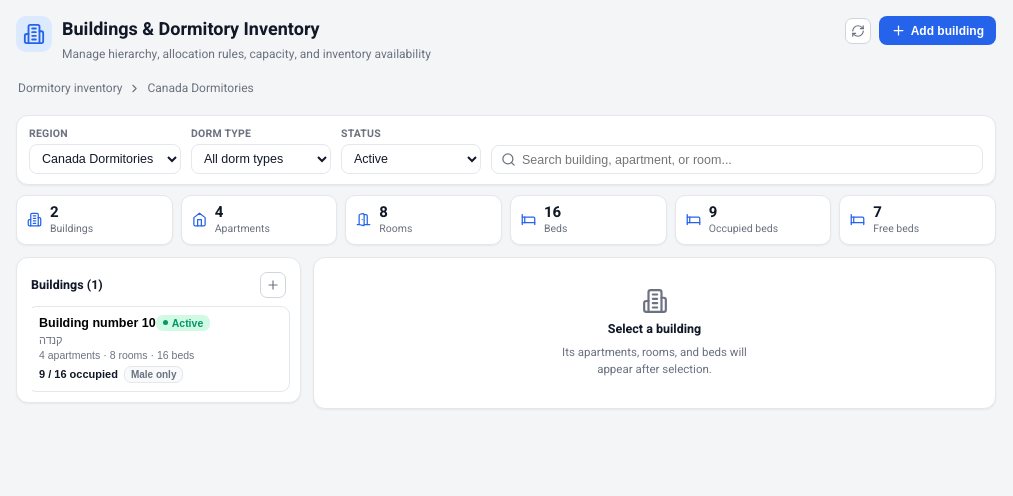
Scenario: BuildingsPage loading and region scope › switching region queries that region, resets the dorm type filter and the selection
Click the button "Building number 10". click: (158, 348)
box: 27,306 -> 290,392
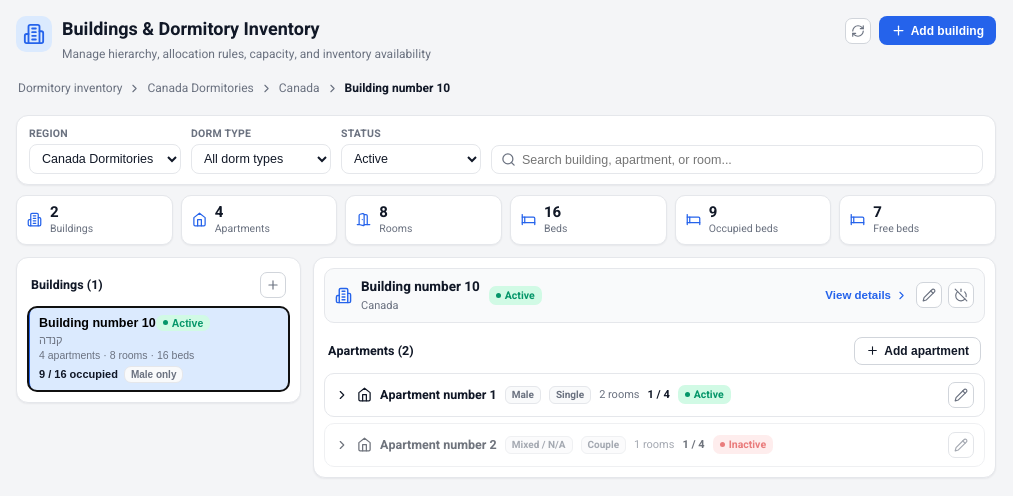
Now the text "Apartment number 1" is shown, box 380,386 -> 497,404
Select "Canada (2)" in the dropdown showing "All dorm types" below "Dorm type". click: (261, 159)
box: 191,144 -> 331,174
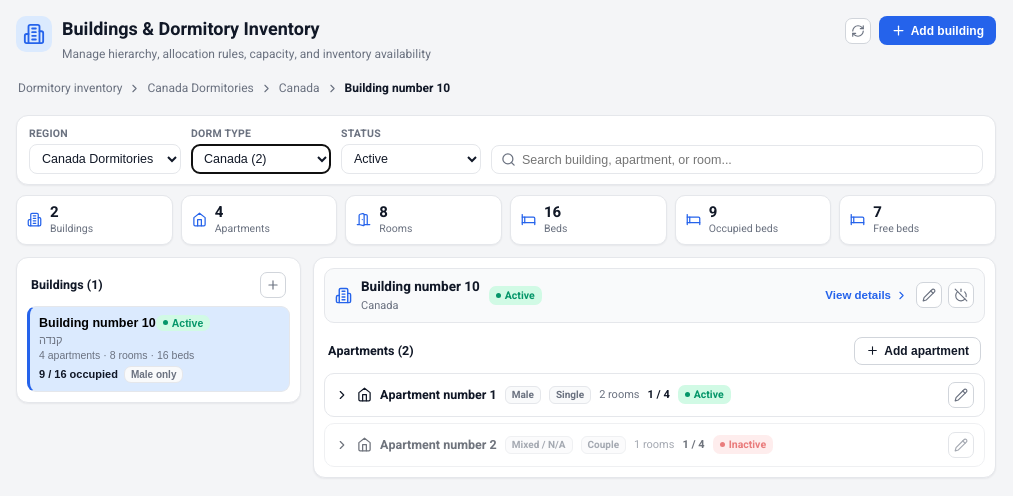
Select "Broshim Dormitories" in the dropdown showing "Canada Dormitories" below "Region". click: (105, 159)
box: 29,144 -> 181,174
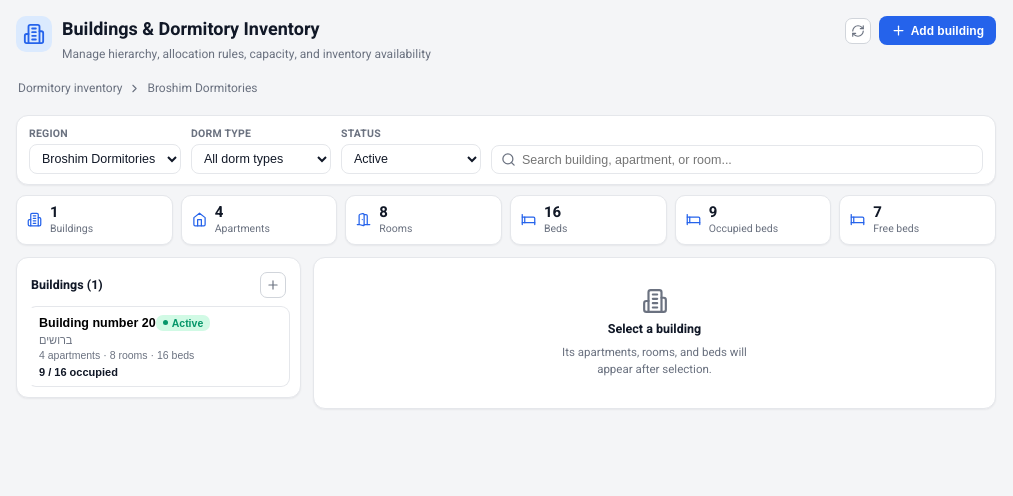
Now the button "Building number 20" is shown, box 27,306 -> 290,386
Now the dropdown showing "All dorm types" below "Dorm type" is shown, box 191,144 -> 331,174
Now the text "Select a building" is shown, box 608,320 -> 701,338
